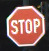stopsign: (7, 6, 45, 47)
